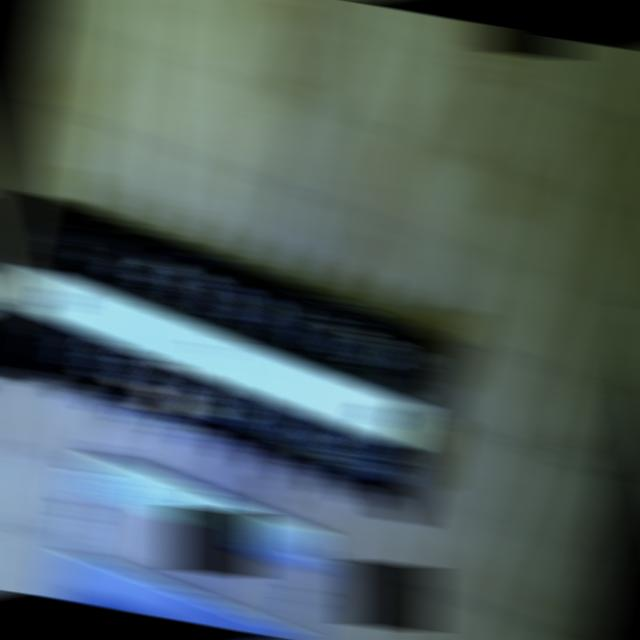Phillips_Block: (0, 191, 477, 524)
